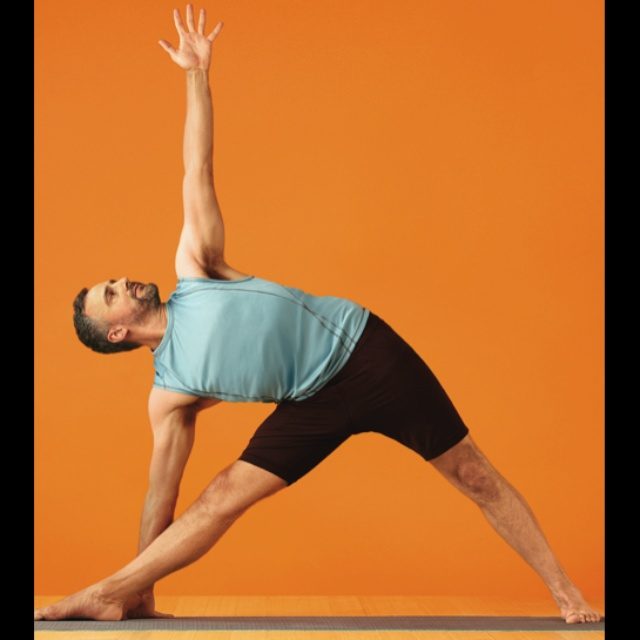Triangle_Pose: (36, 4, 609, 640)
